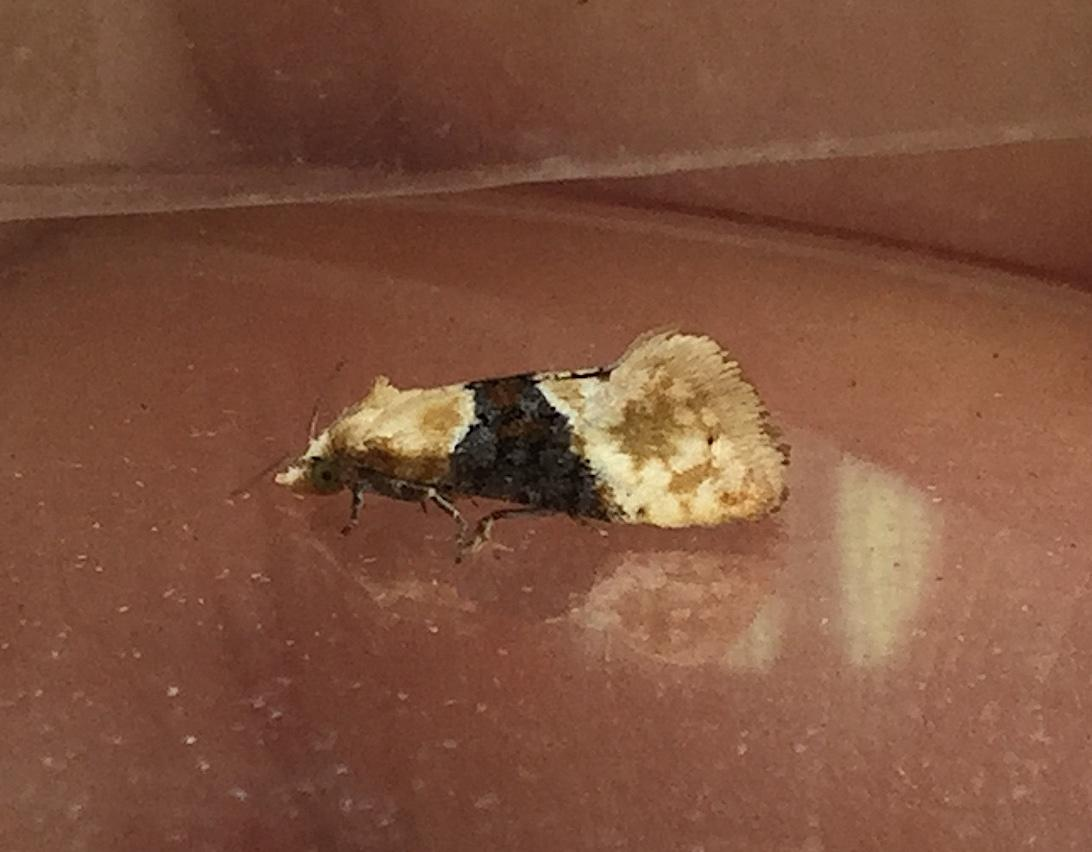Eupoecilia Ambiguella: (268, 319, 797, 568)
